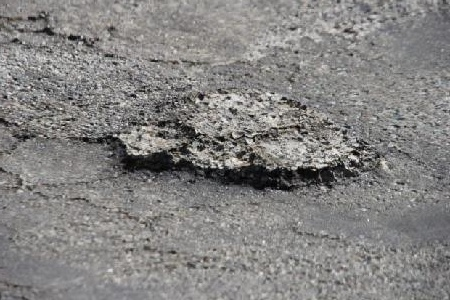pothole: (97, 85, 382, 195)
